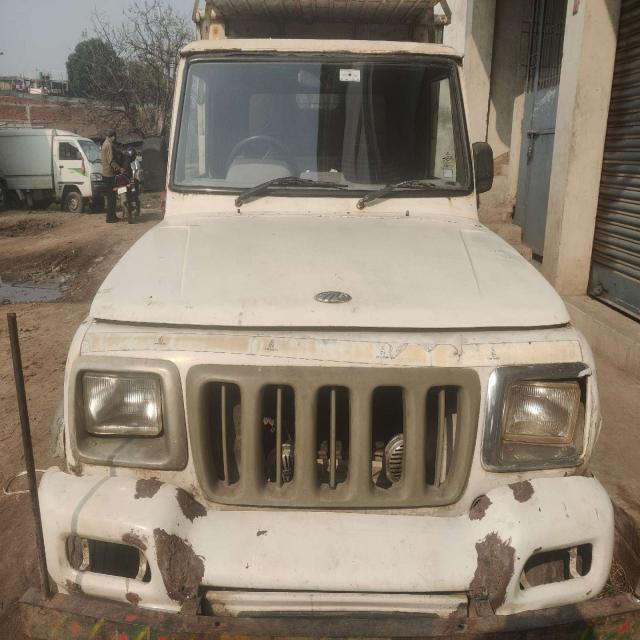light_vehicle: (36, 44, 618, 639)
